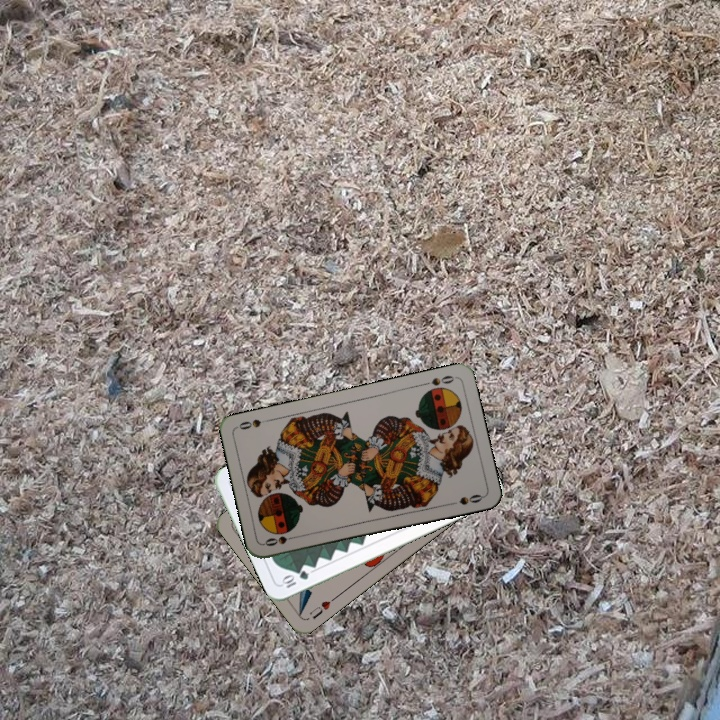G10: (278, 566, 311, 591)
HU: (305, 593, 339, 622)
SO: (261, 531, 301, 549), (418, 371, 458, 388)
